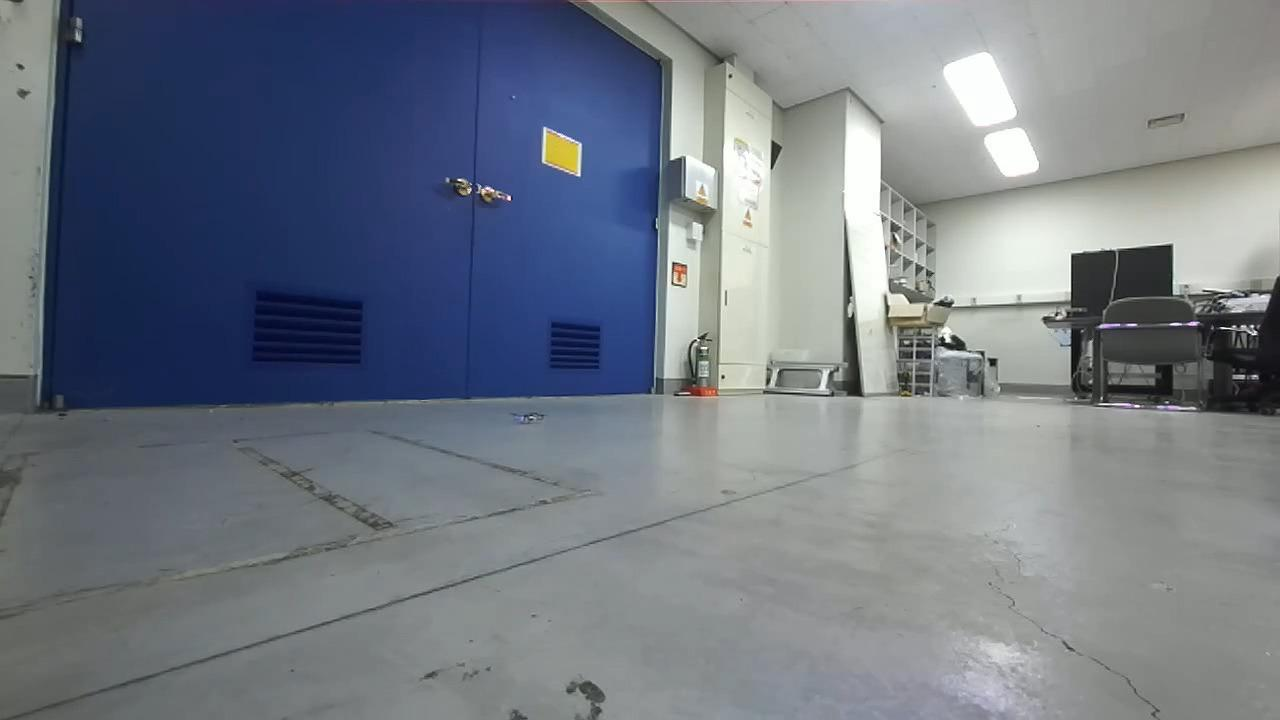crazyflie: (502, 405, 553, 430)
